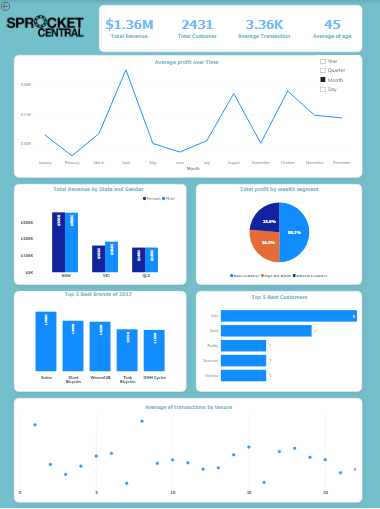

This screenshot's page, from the dashboard's own definition file:
{"tool":"powerbi","page":{"name":"Page 1","canvas":[1200,1600],"ordinal":0},"visuals":[{"type":"shape","box":[46.4,173.9,1097.1,385.5],"z":0},{"type":"shape","box":[47.8,1252.2,1097.1,329],"z":1000},{"type":"shape","box":[620.3,915.9,523.2,317.4],"z":2000},{"type":"shape","box":[47.8,915.9,543.5,317.4],"z":3000},{"type":"shape","box":[620.3,578.3,523.2,317.4],"z":4000},{"type":"shape","box":[314.5,14.5,829,147.8],"z":5000},{"type":"shape","box":[46.4,578.3,543.5,317.4],"z":6000},{"type":"card","fields":{"Values":["KPMG data.customer_id"]},"box":[527.6,26.1,189.9,120],"z":7000},{"type":"card","title":"Total Revenue","fields":{"Values":["KPMG data.profit"]},"box":[314.5,26.1,190,120],"z":8000},{"type":"clusteredColumnChart","title":"Total Revenue by State and Gender","fields":{"Category":["KPMG data.state"],"Y":["Divide(Sum(KPMG data.profit), ScopedEval(Sum(KPMG data.profit), []))"],"Series":["KPMG data.gender"]},"box":[63.8,587,500,300],"z":9000},{"type":"columnChart","title":"Top 5 Best Brands of 2017","fields":{"Category":["KPMG data.brand"],"Y":["KPMG data.transaction_id"]},"box":[63.8,915.9,500,300],"z":10000},{"type":"pieChart","title":"Total profit by wealth segment","fields":{"Category":["KPMG data.wealth_segment"],"Y":["Divide(Sum(KPMG data.profit), ScopedEval(Sum(KPMG data.profit), []))"]},"box":[631.9,587,500,300],"z":11000},{"type":"lineChart","title":"Average profit over Time","fields":{"Category":["KPMG data.transaction_date.Variation.Date Hierarchy.Month"],"Y":["KPMG data.profit"]},"box":[63.8,185.5,1055.1,358],"z":12000},{"type":"barChart","title":"Top 5 Best Customers","fields":{"Category":["KPMG data.First_name"],"Y":["KPMG data.transaction_id"]},"box":[631.9,924.6,500,300],"z":13000},{"type":"card","fields":{"Values":["KPMG data.transaction_id"]},"box":[740.6,26.1,189.9,120],"z":14000},{"type":"actionButton","box":[0,0,100,40],"z":15000},{"type":"slicer","fields":{"Values":["KPMG data.transaction_date.Variation.Date Hierarchy.Month"]},"box":[1212.1,12.1,148.3,174.1],"z":16000},{"type":"card","fields":{"Values":["KPMG data.age"]},"box":[953.6,26.1,189.9,120],"z":17000},{"type":"image","box":[18.8,20.3,259.4,142],"z":18000},{"type":"scatterChart","title":"Average of transactions by tenure","fields":{"X":["KPMG data.tenure"],"Y":["KPMG data.transaction_id"]},"box":[56.5,1272.5,1079.7,297.1],"z":19000},{"type":"slicer","fields":{"Values":["AutoPeriod 3.AutoPeriod"]},"box":[997.1,173.9,139.1,127.5],"z":20000}]}

Visuals, with their boxes in screenshot pixels (x1, y1, x2, y2), scaled from the page's 1200x1600 canvas onto the 380x509 screenshot:
shape: {"x1": 15, "y1": 55, "x2": 362, "y2": 178}
shape: {"x1": 15, "y1": 398, "x2": 363, "y2": 503}
shape: {"x1": 196, "y1": 291, "x2": 362, "y2": 392}
shape: {"x1": 15, "y1": 291, "x2": 187, "y2": 392}
shape: {"x1": 196, "y1": 184, "x2": 362, "y2": 285}
shape: {"x1": 100, "y1": 5, "x2": 362, "y2": 52}
shape: {"x1": 15, "y1": 184, "x2": 187, "y2": 285}
card - KPMG data.customer_id: {"x1": 167, "y1": 8, "x2": 227, "y2": 46}
"Total Revenue" card: {"x1": 100, "y1": 8, "x2": 160, "y2": 46}
"Total Revenue by State and Gender" clusteredColumnChart: {"x1": 20, "y1": 187, "x2": 179, "y2": 282}
"Top 5 Best Brands of 2017" columnChart: {"x1": 20, "y1": 291, "x2": 179, "y2": 387}
"Total profit by wealth segment" pieChart: {"x1": 200, "y1": 187, "x2": 358, "y2": 282}
"Average profit over Time" lineChart: {"x1": 20, "y1": 59, "x2": 354, "y2": 173}
"Top 5 Best Customers" barChart: {"x1": 200, "y1": 294, "x2": 358, "y2": 390}
card - KPMG data.transaction_id: {"x1": 235, "y1": 8, "x2": 295, "y2": 46}
actionButton: {"x1": 0, "y1": 0, "x2": 32, "y2": 13}
card - KPMG data.age: {"x1": 302, "y1": 8, "x2": 362, "y2": 46}
image: {"x1": 6, "y1": 6, "x2": 88, "y2": 52}
"Average of transactions by tenure" scatterChart: {"x1": 18, "y1": 405, "x2": 360, "y2": 499}
slicer - AutoPeriod 3.AutoPeriod: {"x1": 316, "y1": 55, "x2": 360, "y2": 96}
